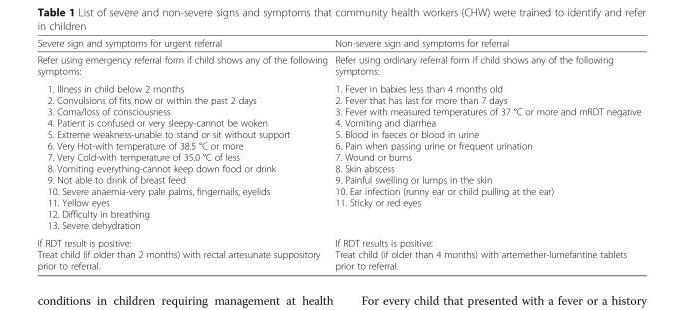table: (36, 37, 640, 271)
table column: (330, 37, 640, 271), (36, 37, 330, 271)
table column header: (36, 37, 640, 50)
table row: (36, 79, 640, 233), (36, 233, 640, 271), (36, 50, 640, 79), (36, 37, 640, 50)
